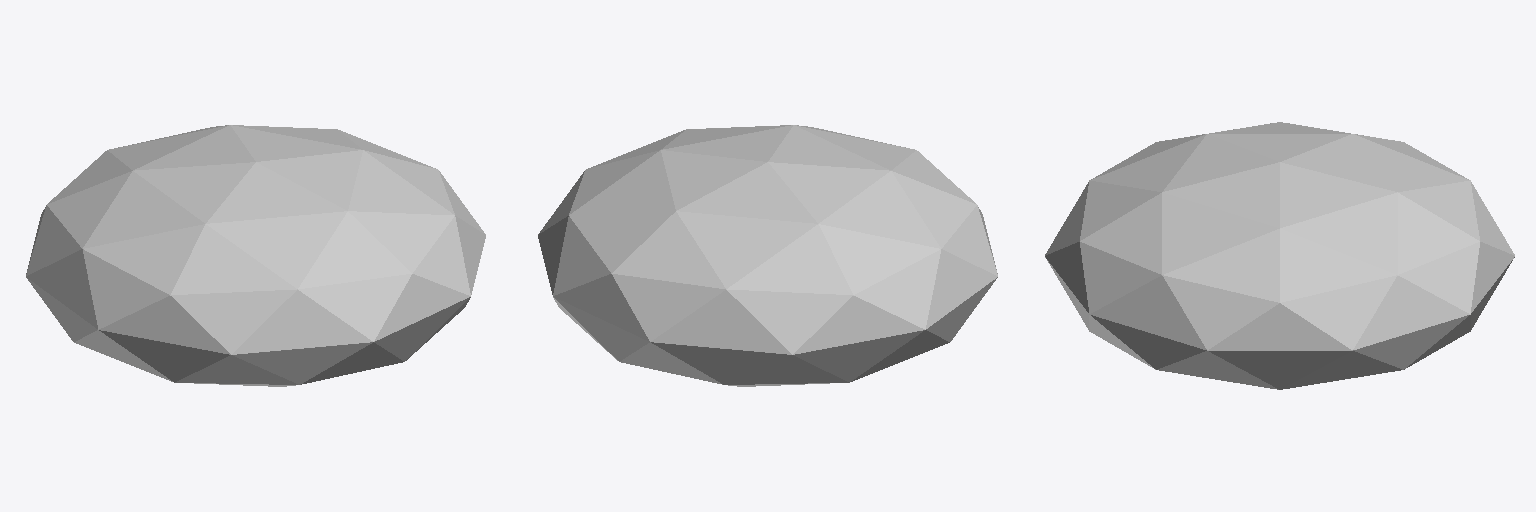
Rendered from ASIR_simple.obj.
3 renders of one model, left to right at view 1: azimuth 30°, elevation 25°; view 2: azimuth 150°, elevation 25°; view 3: azimuth 270°, elevation 25°, orthographic.
Bounding box in the file's own units: 0.6682 × 0.3091 × 0.7026.